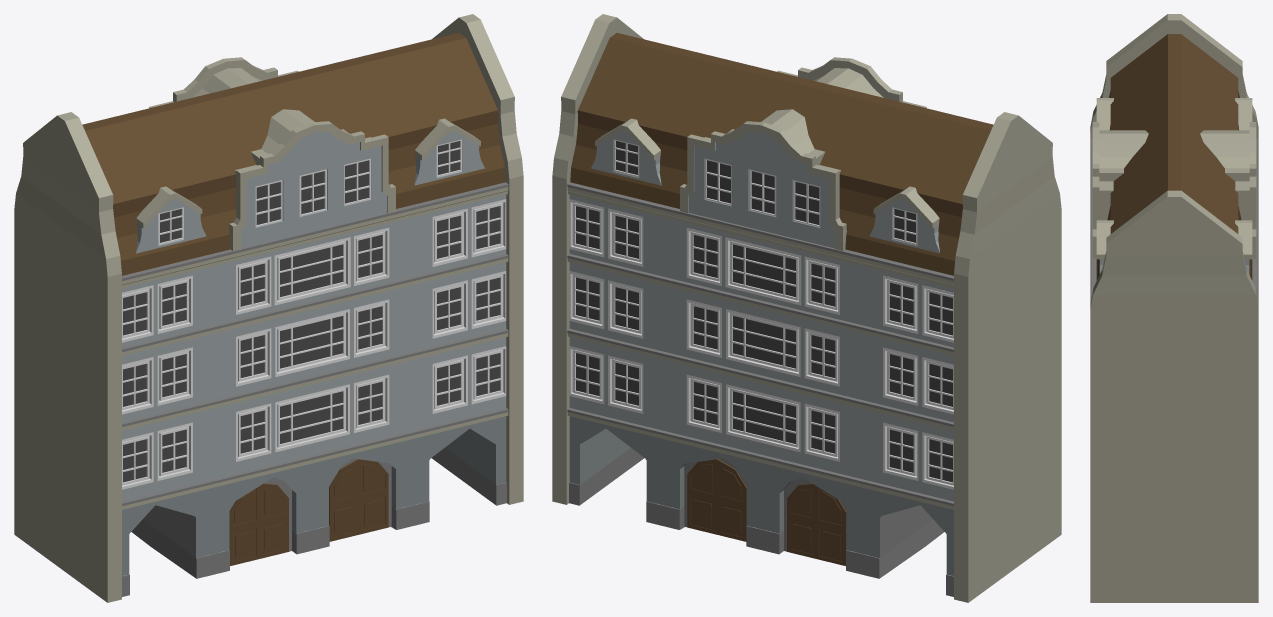
The model's file is Building2_Large.glb.
3 renders of one model, left to right at view 1: azimuth 30°, elevation 25°; view 2: azimuth 150°, elevation 25°; view 3: azimuth 270°, elevation 25°, orthographic. The views are drawn at different scales.
Parts seen in each view (by area): view 1: Building2_Large_2, Building2_Large_3, Building2_Large_0, Building2_Large_6, Building2_Large_8, Building2_Large_4, Building2_Large_9; view 2: Building2_Large_2, Building2_Large_3, Building2_Large_0, Building2_Large_6, Building2_Large_8, Building2_Large_4, Building2_Large_9; view 3: Building2_Large_2, Building2_Large_3, Building2_Large_4.
Part boxes in pixels (box(x1,y1,x2,y2)): Building2_Large_2: box(14, 14, 523, 602); Building2_Large_3: box(82, 33, 505, 565); Building2_Large_0: box(122, 131, 506, 501); Building2_Large_6: box(122, 139, 506, 489); Building2_Large_8: box(123, 141, 499, 482); Building2_Large_4: box(122, 182, 508, 596); Building2_Large_9: box(122, 416, 506, 575); Building2_Large_2: box(552, 14, 1061, 602); Building2_Large_3: box(570, 33, 993, 565); Building2_Large_0: box(569, 131, 953, 501); Building2_Large_6: box(569, 139, 953, 489); Building2_Large_8: box(576, 141, 952, 482); Building2_Large_4: box(567, 182, 953, 596); Building2_Large_9: box(569, 416, 953, 575); Building2_Large_2: box(1090, 14, 1258, 602); Building2_Large_3: box(1096, 34, 1252, 280); Building2_Large_4: box(1091, 138, 1257, 295).
Size of the model in its own units: 5.72 by 5.92 by 2.22.
